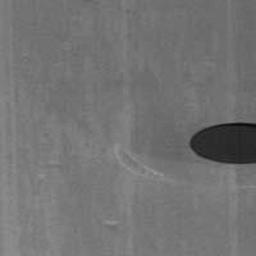Punching: (189, 122, 256, 166)
